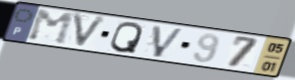7: (226, 34, 262, 69)
9: (192, 32, 224, 65)
M: (26, 9, 77, 47)
Q: (108, 21, 145, 55)
V: (71, 11, 111, 51), (151, 24, 187, 59)
